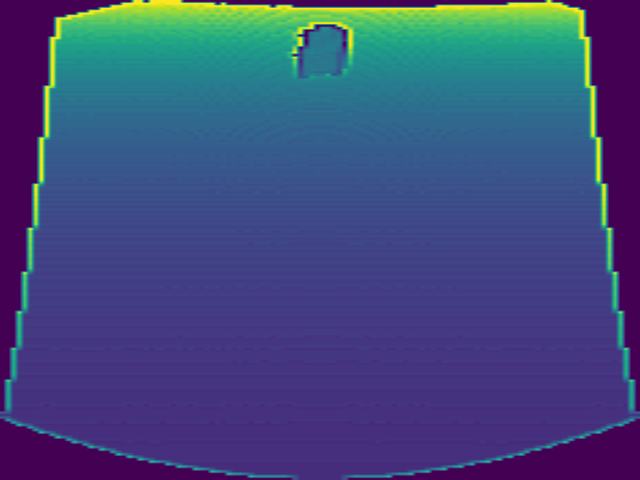car_0027: (292, 21, 354, 79)
